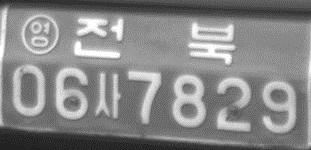0: (12, 63, 47, 117)
2: (215, 76, 251, 133)
6: (54, 65, 87, 120)
7: (126, 70, 162, 125)
8: (170, 73, 206, 128)
9: (260, 80, 298, 134)
사: (94, 71, 123, 121)
영: (20, 13, 60, 55)
전북_D: (72, 16, 237, 66)
